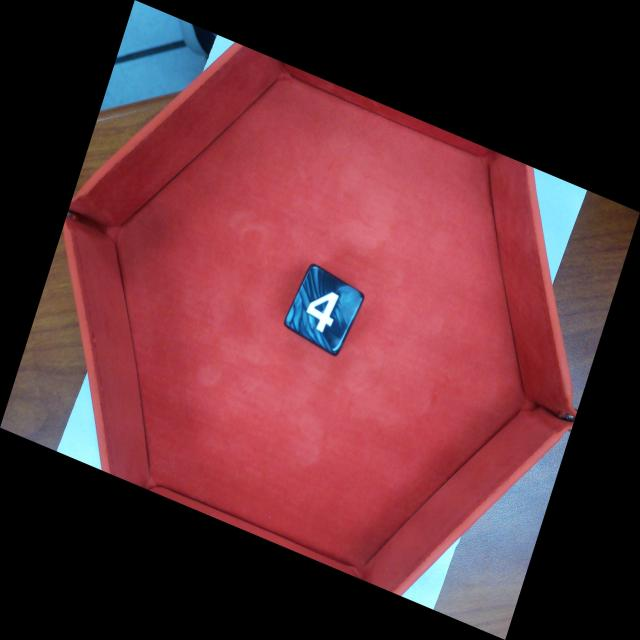dice: (285, 265, 365, 357)
